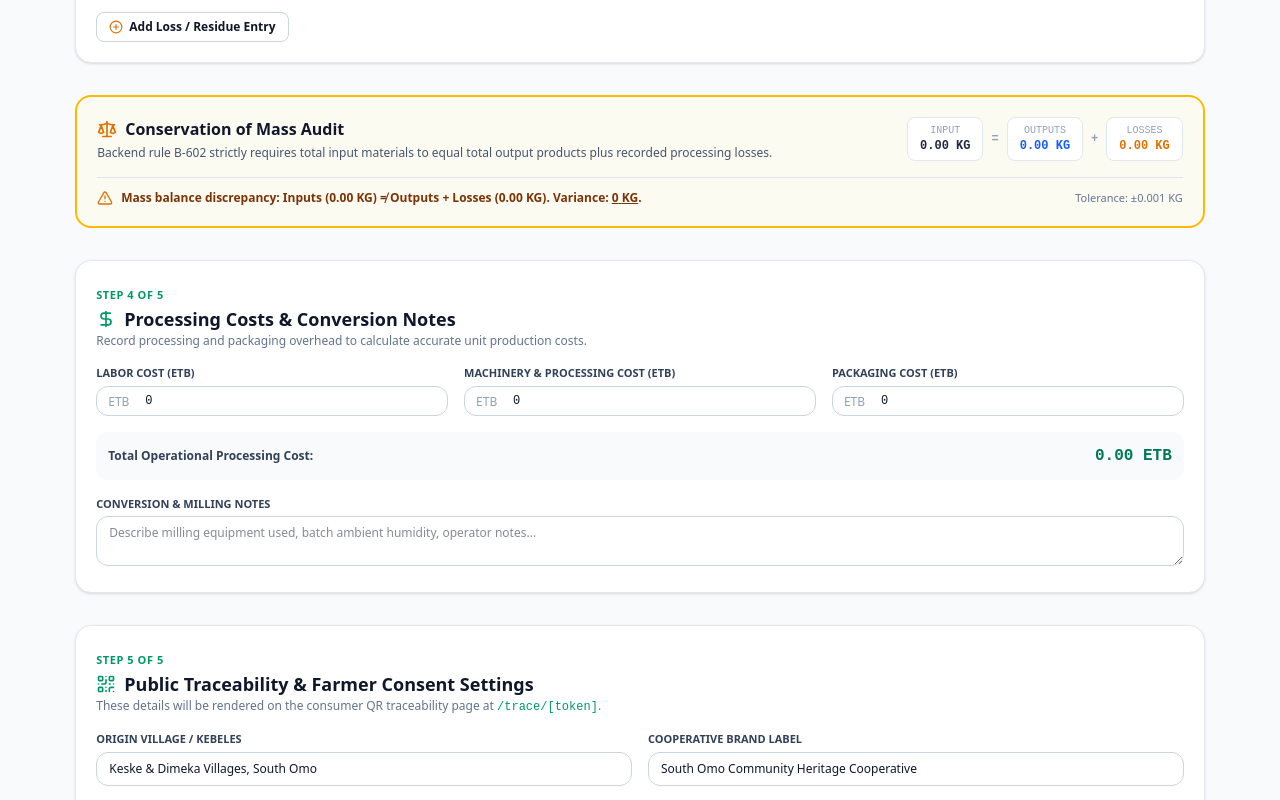
Test: F-904: Production Batch Creation Wizard & Conservation of Mass › calculates operational costs from labor, processing, and packaging inputs
(page scrolled)
Replace the text in the number field with test id "input-labor-cost" with "1500": (272, 400) [96,386,448,416]
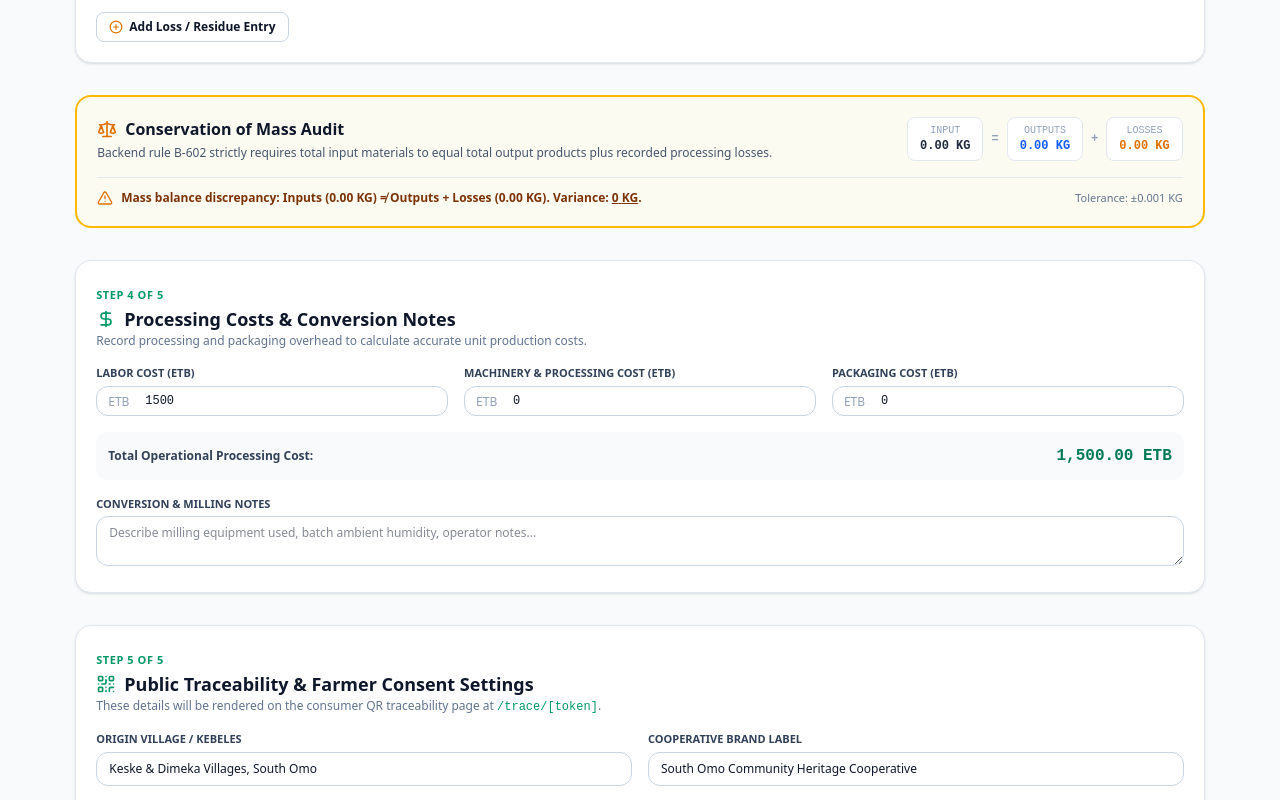
Replace the text in the number field with test id "input-processing-cost" with "2000": (640, 400) [464,386,816,416]
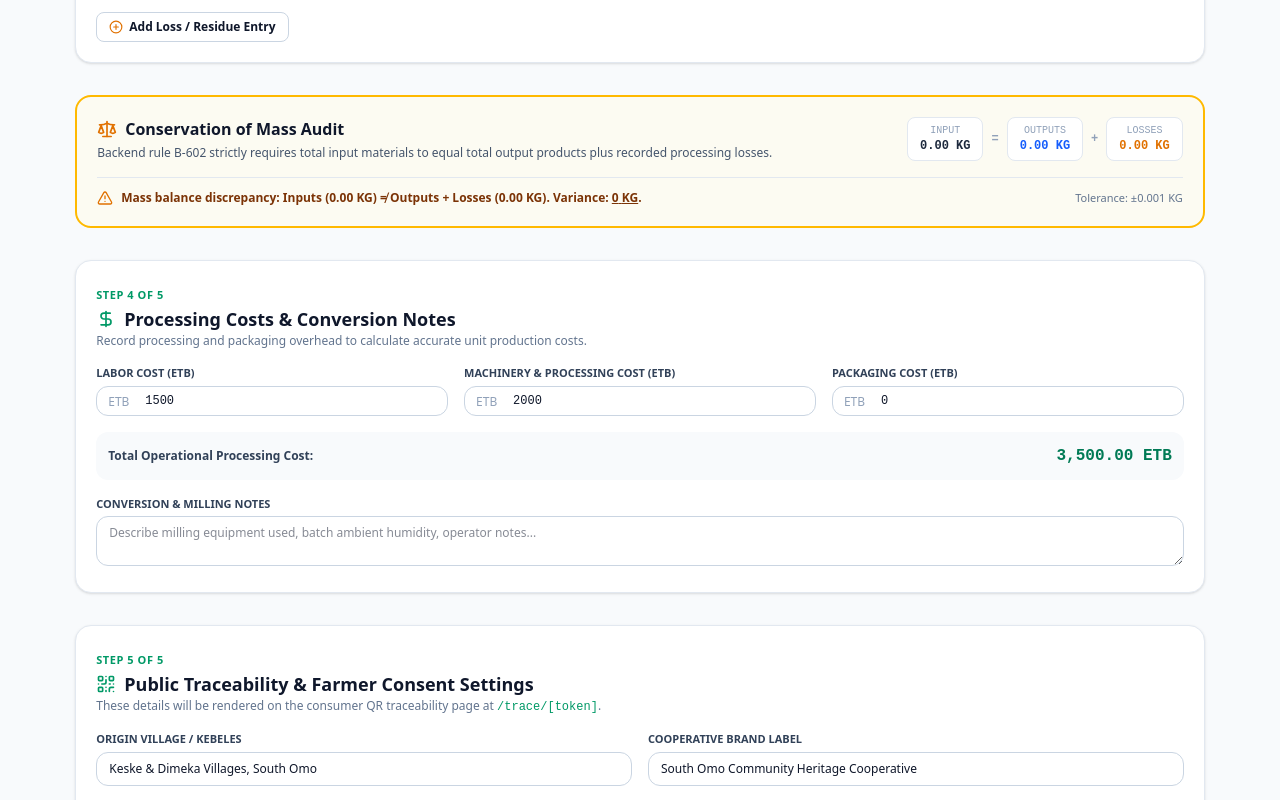
Replace the text in the number field with test id "input-packaging-cost" with "500": (1008, 400) [832,386,1184,416]
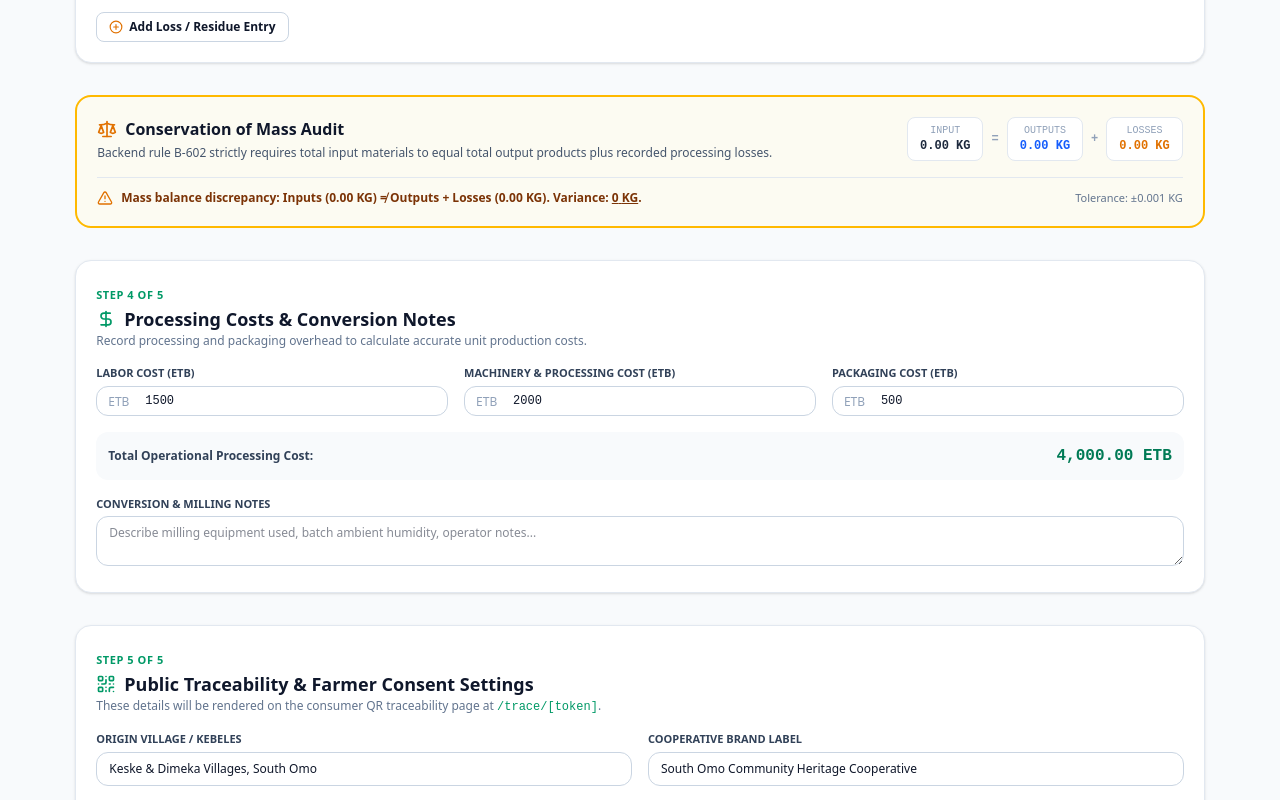
Result: the element with test id "total-cost-card" shows "4,000" at [1056,446,1172,464]
